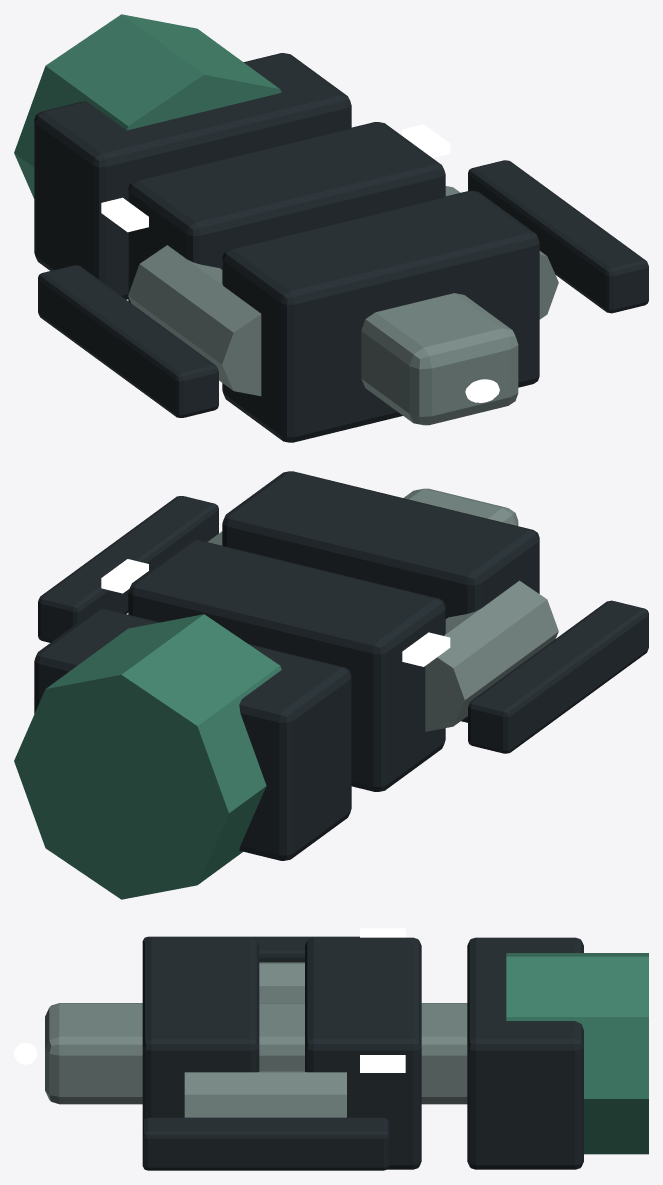
The picture shows the model from 3 angles, top to bottom: view 1: azimuth 30°, elevation 25°; view 2: azimuth 150°, elevation 25°; view 3: azimuth 270°, elevation 25°; orthographic projection. The views are drawn at different scales.
Visible parts, largest first — view 1: RIMWARD_HULL, RIMWARD_EMISSIVE, RIMWARD_ENGINE_GLOW; view 2: RIMWARD_HULL, RIMWARD_EMISSIVE; view 3: RIMWARD_HULL, RIMWARD_EMISSIVE, RIMWARD_ENGINE_GLOW.
Boxes of the visible parts, box(x1,y1,x2,y2) form: RIMWARD_HULL: box(14, 14, 648, 442); RIMWARD_EMISSIVE: box(101, 124, 450, 232); RIMWARD_ENGINE_GLOW: box(465, 379, 499, 402); RIMWARD_HULL: box(14, 471, 648, 899); RIMWARD_EMISSIVE: box(101, 559, 450, 666); RIMWARD_HULL: box(45, 936, 648, 1170); RIMWARD_EMISSIVE: box(360, 928, 405, 1072); RIMWARD_ENGINE_GLOW: box(14, 1042, 37, 1064).
Bounding box in the file's own units: 61.71 × 28.05 × 83.13.
